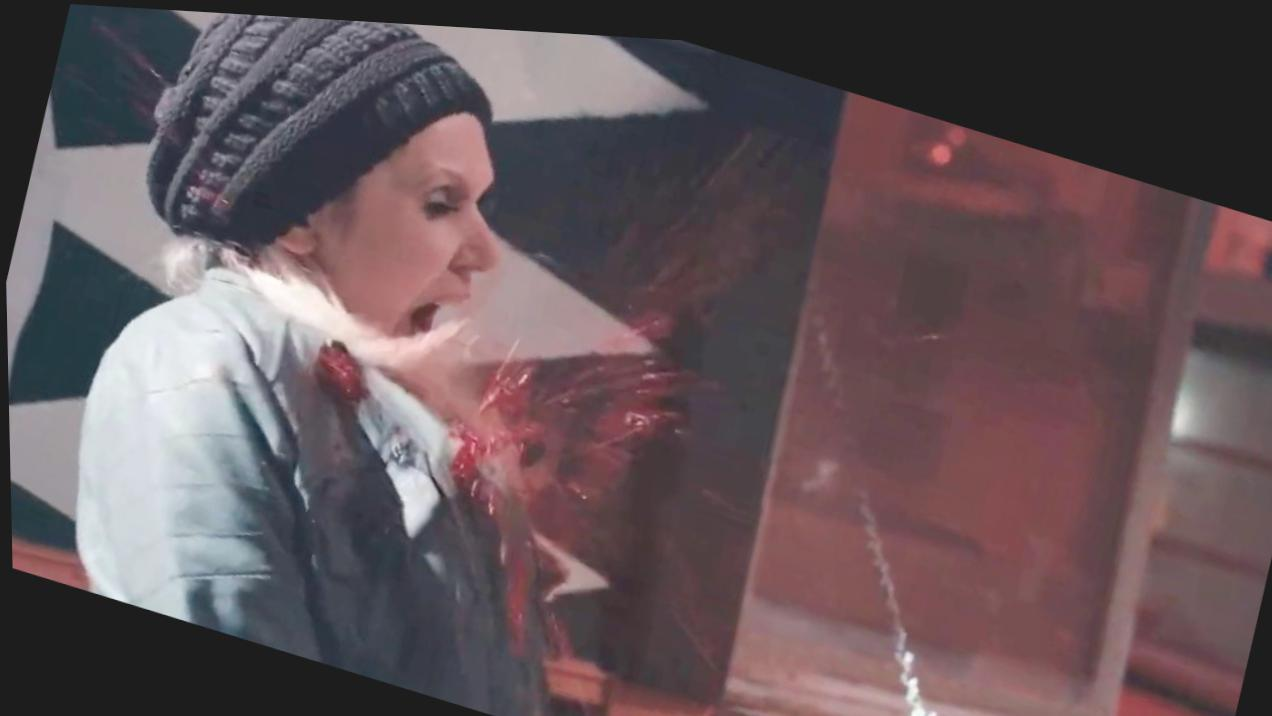Fire: (451, 100, 830, 695), (304, 347, 366, 410)
